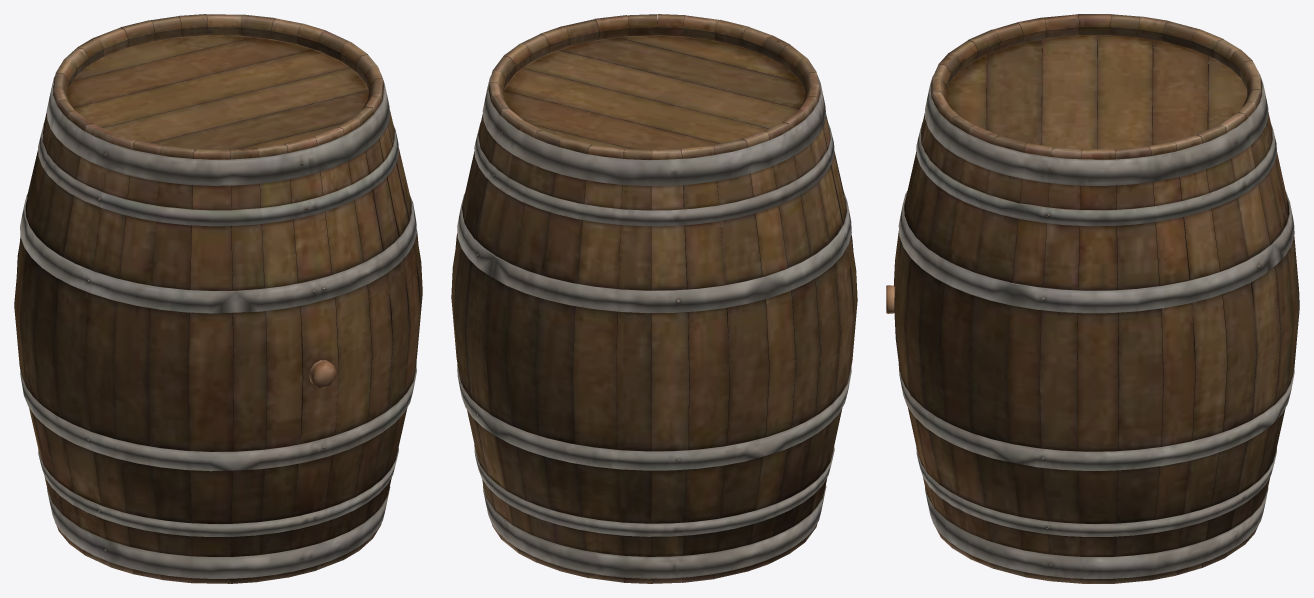
Rendered from barril.glb.
3 views of the same model, side by side, from view 1: azimuth 30°, elevation 25°; view 2: azimuth 150°, elevation 25°; view 3: azimuth 270°, elevation 25° (orthographic).
Parts seen in each view (by area): view 1: wine_barrel_01_Lid; view 2: wine_barrel_01_Lid; view 3: wine_barrel_01_Lid.
Boxes of the visible parts, bbox=[...] form: wine_barrel_01_Lid: bbox=[14, 14, 422, 583]; wine_barrel_01_Lid: bbox=[451, 14, 857, 583]; wine_barrel_01_Lid: bbox=[886, 14, 1299, 583].
Size of the model in its own units: 0.7419 by 0.8695 by 0.7554.
1 material, 1 textured.
